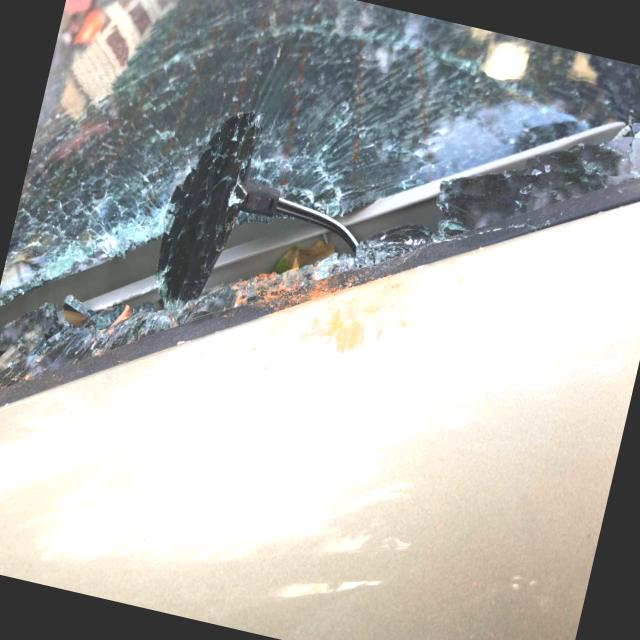Fissure: (5, 170, 189, 328), (251, 151, 345, 198)
Rayure: (275, 262, 404, 395)
